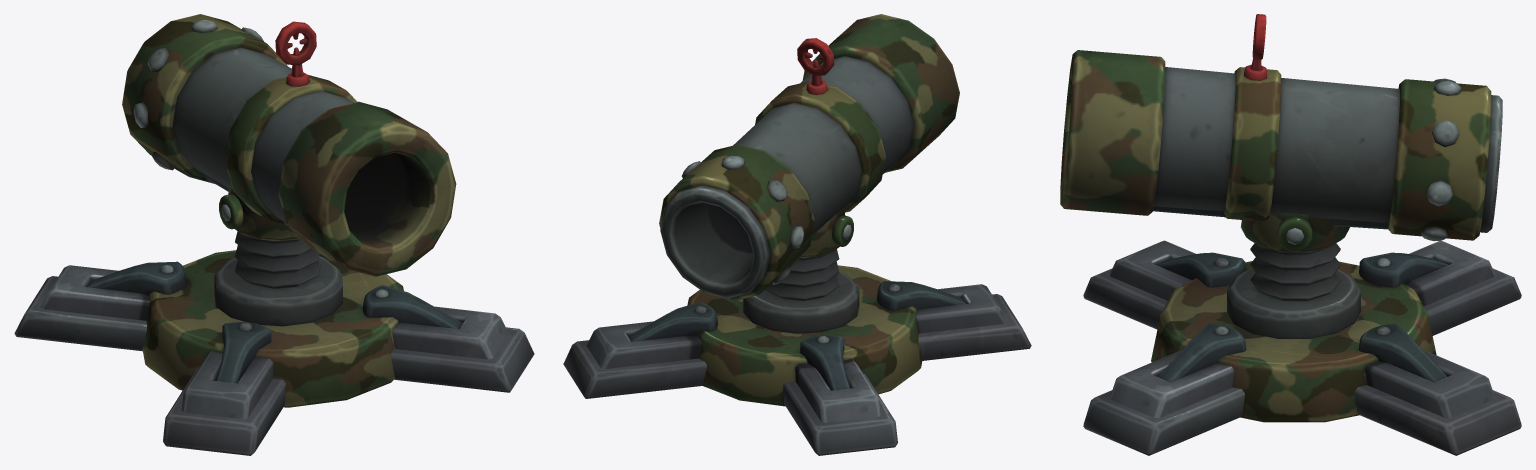
The model's file is SM_TowerDefense_Assault_Weapon_Bazooka_Base.fbx.
3 renders of one model, left to right at view 1: azimuth 30°, elevation 25°; view 2: azimuth 150°, elevation 25°; view 3: azimuth 270°, elevation 25°, orthographic. The views are drawn at different scales.
Parts seen in each view (by area): view 1: SM_TowerDefense_Assault_Weapon_Bazooka_Base, SM_TowerDefense_Assault_Weapon_Bazooka_Gun; view 2: SM_TowerDefense_Assault_Weapon_Bazooka_Base, SM_TowerDefense_Assault_Weapon_Bazooka_Gun; view 3: SM_TowerDefense_Assault_Weapon_Bazooka_Gun, SM_TowerDefense_Assault_Weapon_Bazooka_Base.
Boxes of the visible parts, x1=… form: SM_TowerDefense_Assault_Weapon_Bazooka_Base: x1=14, y1=231, x2=534, y2=455; SM_TowerDefense_Assault_Weapon_Bazooka_Gun: x1=122, y1=14, x2=456, y2=276; SM_TowerDefense_Assault_Weapon_Bazooka_Base: x1=563, y1=249, x2=1031, y2=455; SM_TowerDefense_Assault_Weapon_Bazooka_Gun: x1=659, y1=14, x2=959, y2=300; SM_TowerDefense_Assault_Weapon_Bazooka_Gun: x1=1060, y1=14, x2=1502, y2=252; SM_TowerDefense_Assault_Weapon_Bazooka_Base: x1=1083, y1=240, x2=1521, y2=455.
Bounding box in the file's own units: 516 × 453 × 543.
